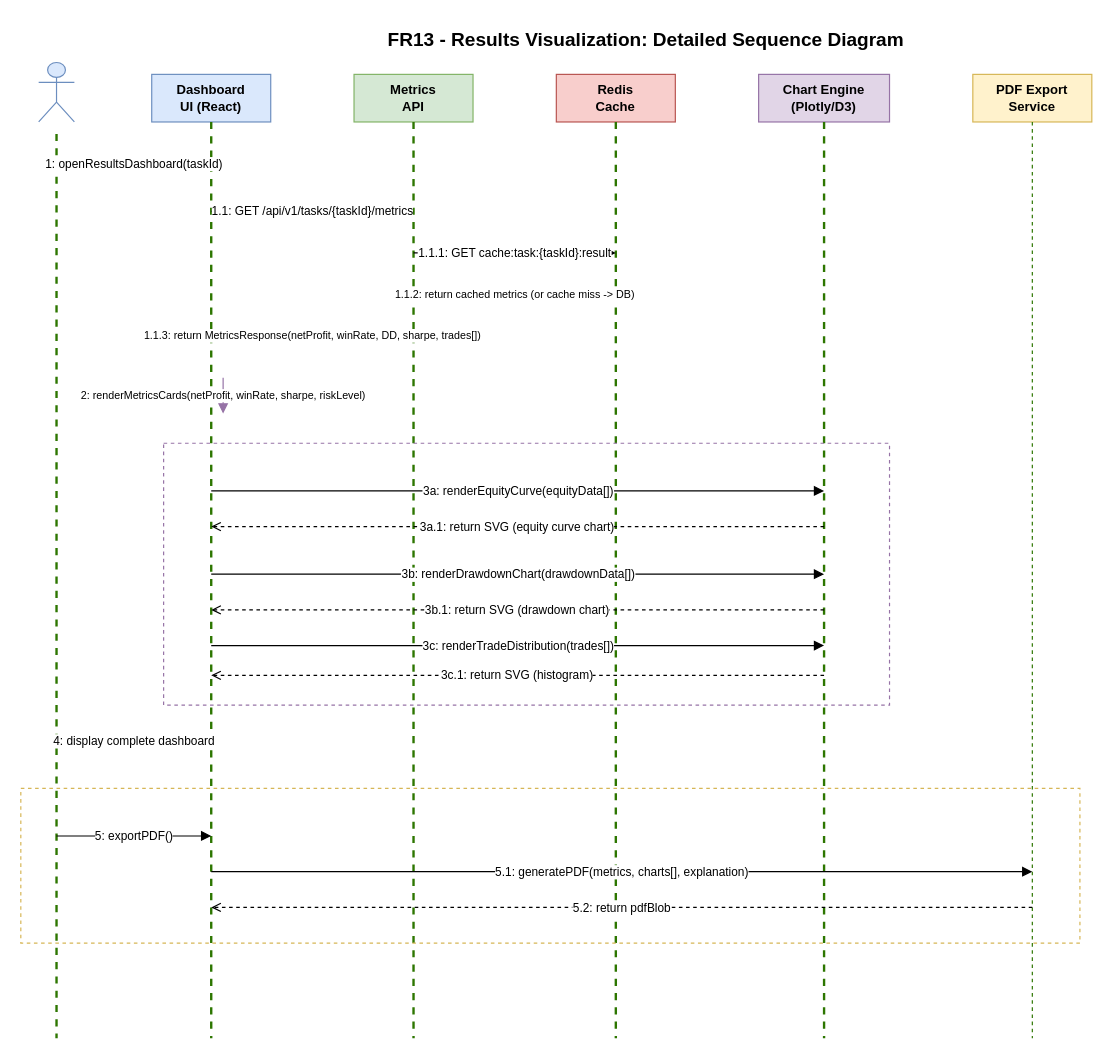
The diagram is 1113 pixels wide and 1060 high, and some of its shapes have lost their labels. Each missing label, with the centre of its shape:
"opt [Trader clicks Export PDF]" goes at (x=550, y=865).
"par [Parallel chart rendering]" goes at (x=526, y=573).
"Trader (Actor)" goes at (x=55, y=91).
